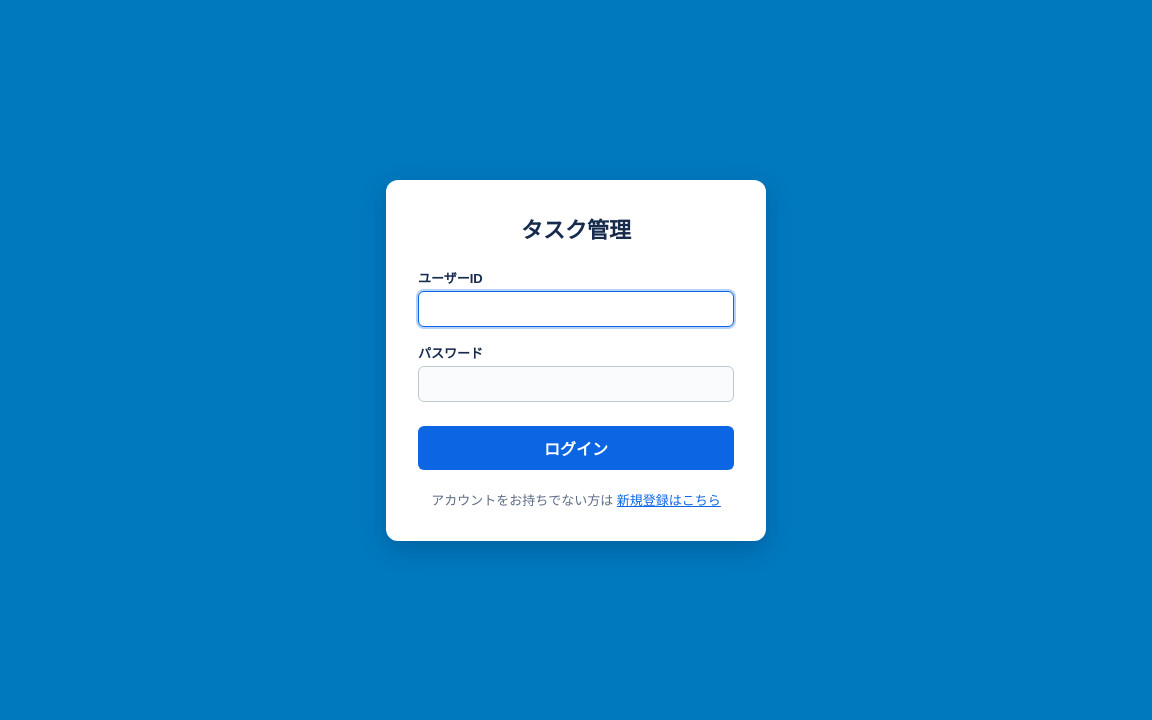
it: 新規登録のあとの画面遷移（業務ルール 5.6） › 登録に成功したら、そのままメイン画面（S-01）へ進む
The width and height of the screenshot is (1152, 720).
Click the button "新規登録はこちら" at (669, 499), box 617,490 -> 721,508
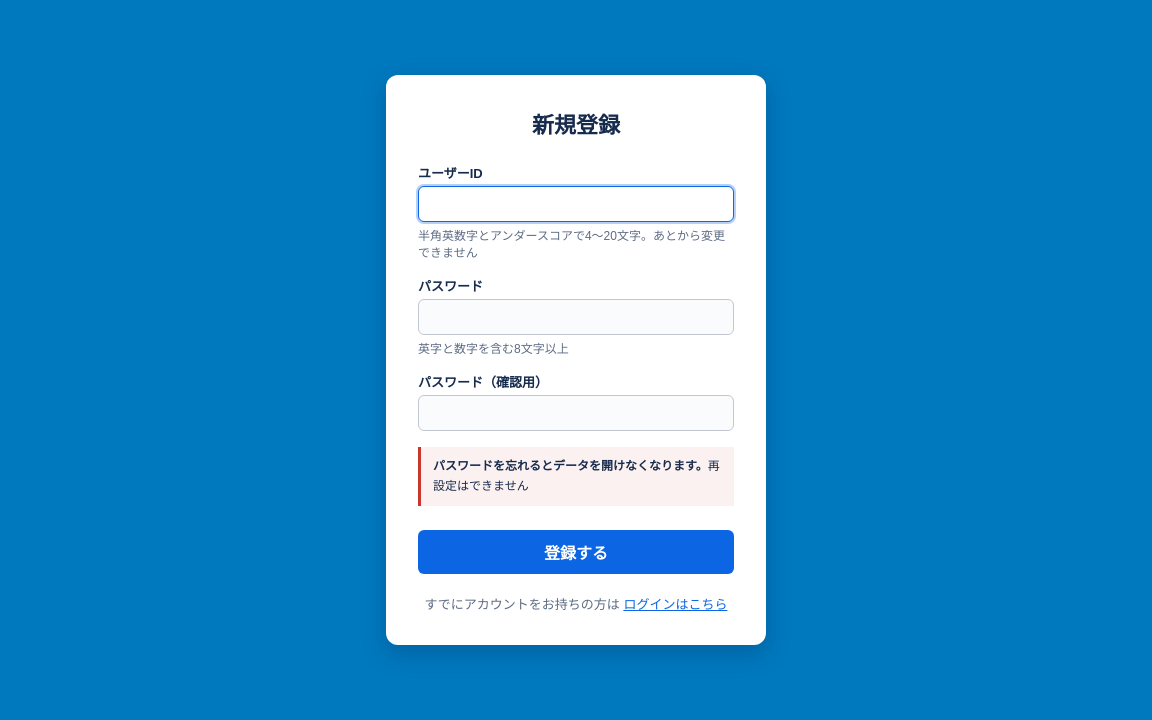
Type "taro_123" into the field labelled "ユーザーID" at (576, 204), box 418,186 -> 734,222
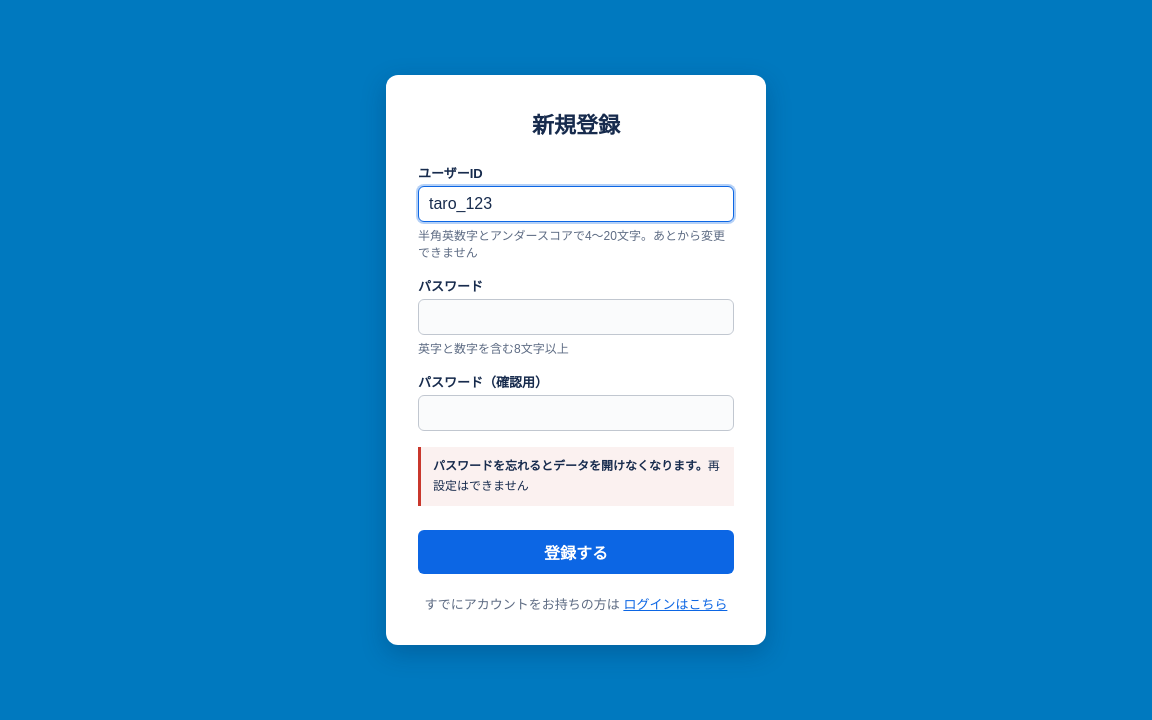
Type "pass1234" into the password field labelled "パスワード" at (576, 317), box 418,299 -> 734,335
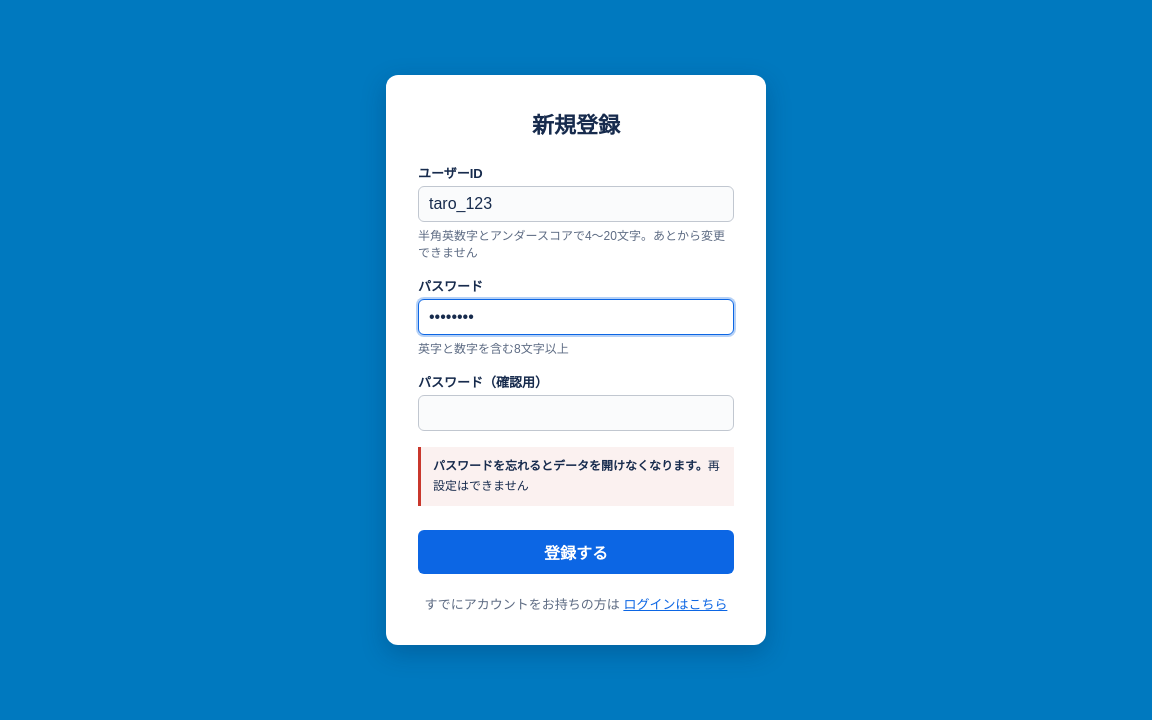
Type "pass1234" into the password field labelled "パスワード（確認用）" at (576, 413), box 418,395 -> 734,431
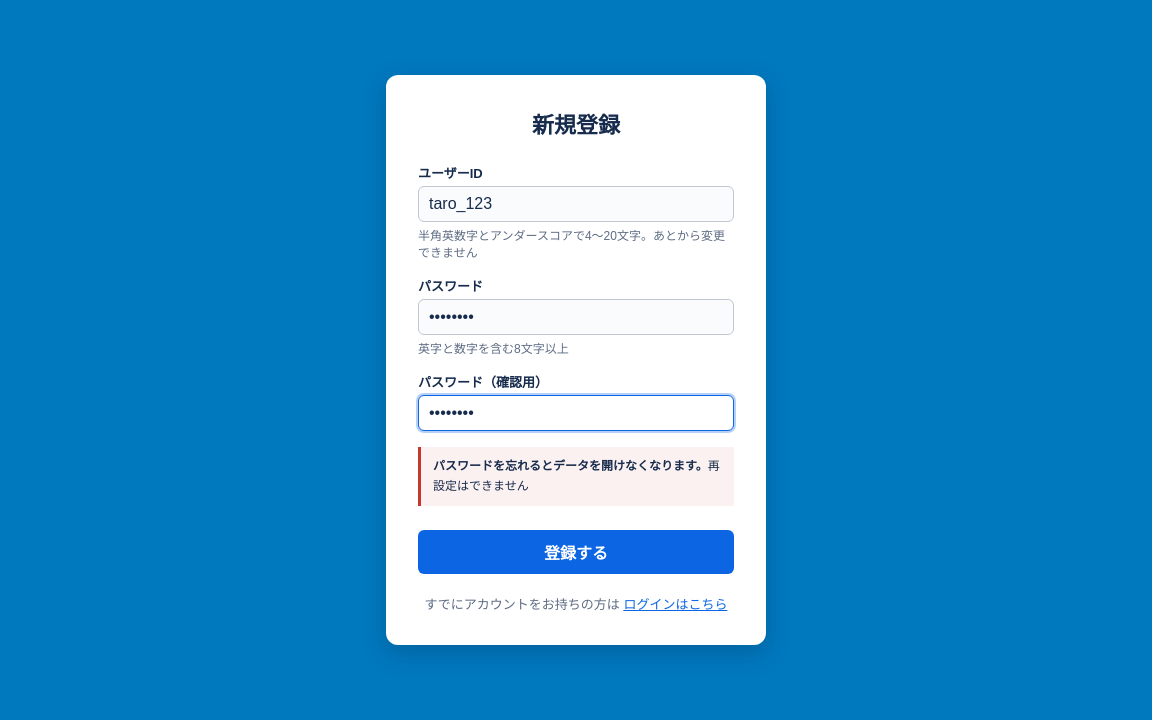
Click the button "登録する" at (576, 552), box 418,530 -> 734,574
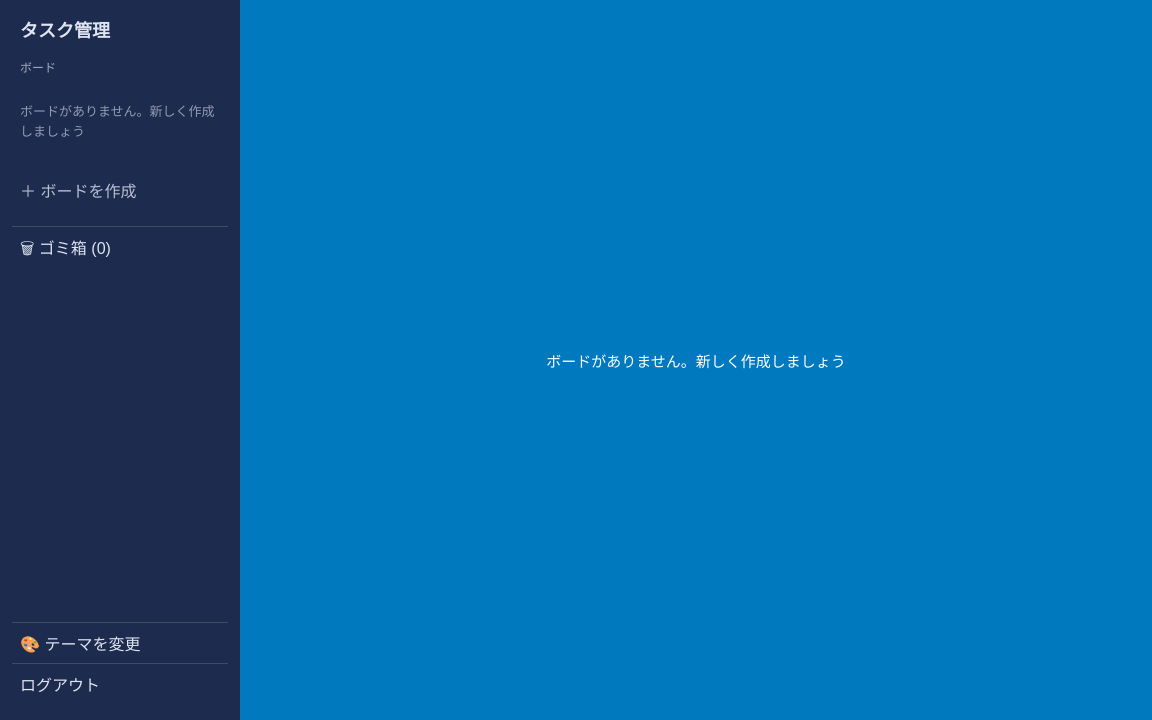
Check: the navigation bar "ボード" is shown, box 0,0 -> 240,719
Check: the button "登録する" is gone
